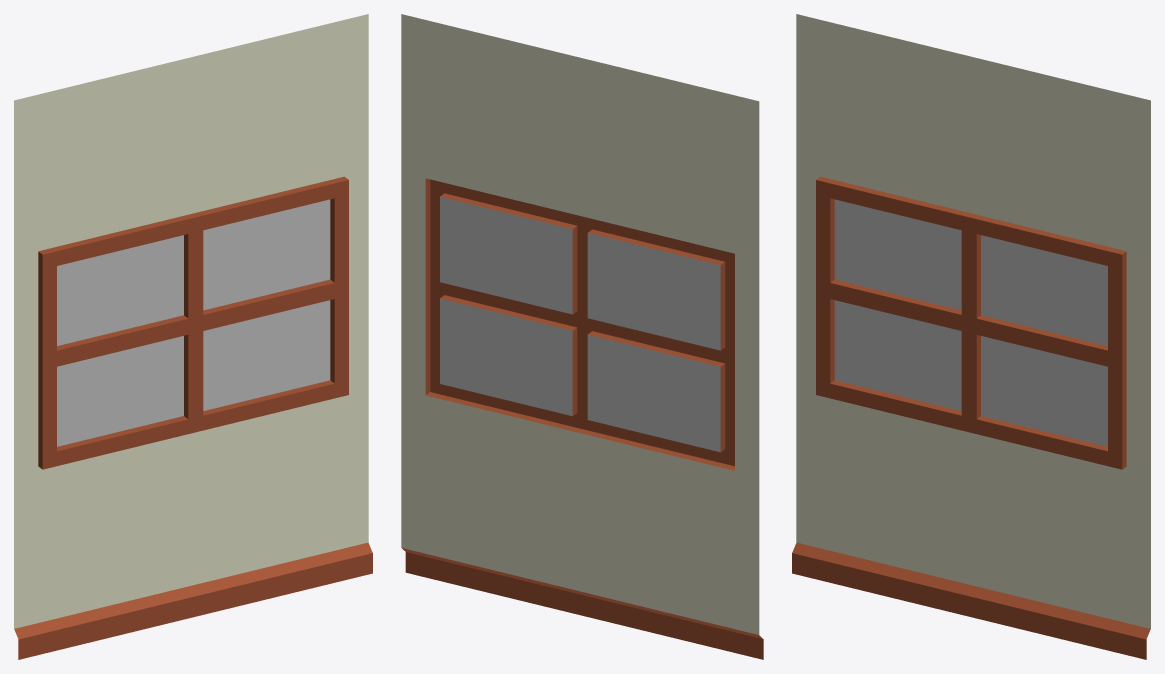
The model's file is Wall1.fbx.
The picture shows the model from 3 angles, left to right: view 1: azimuth 30°, elevation 25°; view 2: azimuth 150°, elevation 25°; view 3: azimuth 330°, elevation 25°; orthographic projection.
Visible parts, largest first — view 1: 平面; view 2: 平面; view 3: 平面.
Boxes of the visible parts, left/top/right/bottom form: 平面: left=14, top=14, right=372, bottom=659; 平面: left=401, top=14, right=763, bottom=659; 平面: left=792, top=14, right=1150, bottom=659.
Size of the model in its own units: 2 by 3 by 0.0448.
